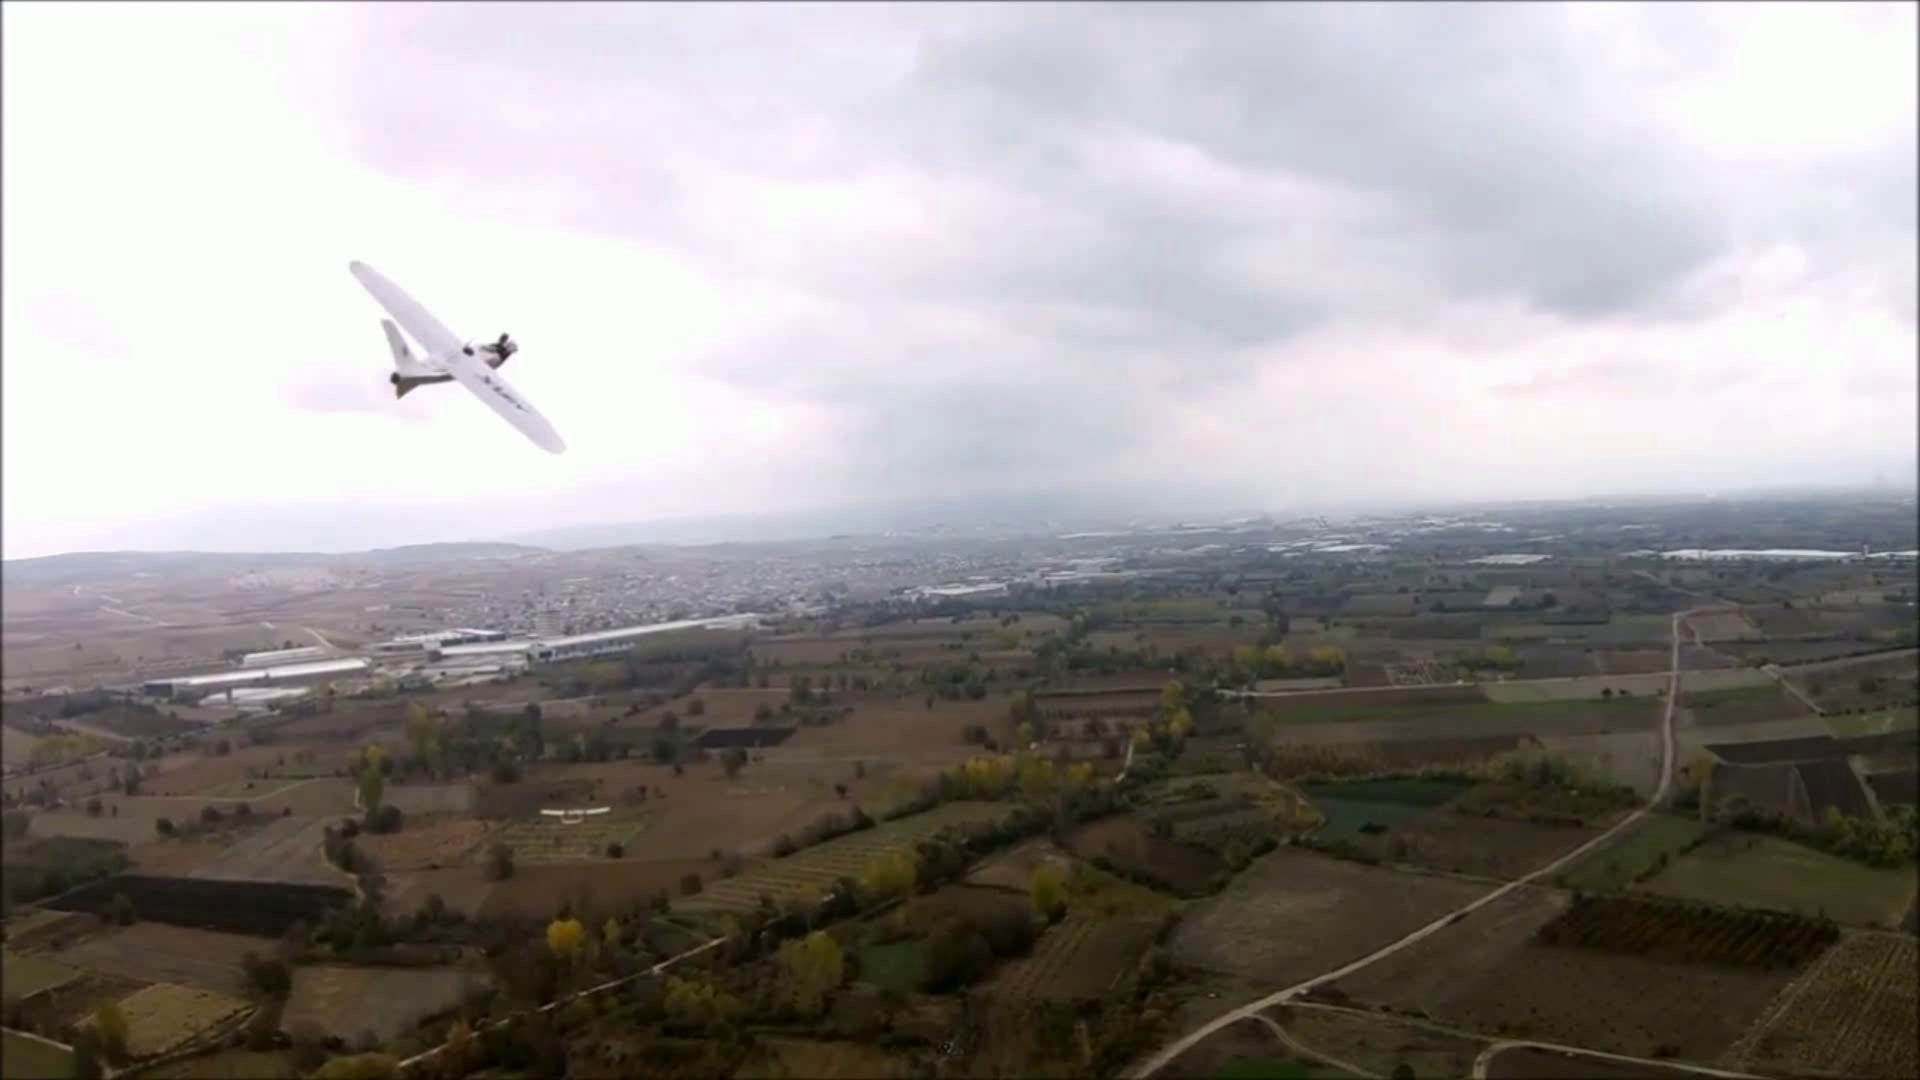airplane: (345, 260, 566, 455)
